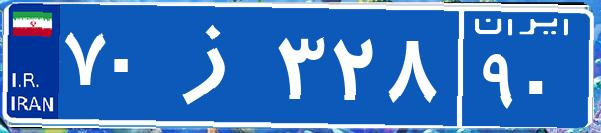0: (110, 28, 158, 105), (525, 38, 570, 115)
2: (330, 28, 385, 110)
3: (273, 28, 330, 110)
7: (57, 26, 110, 107)
8: (385, 28, 445, 110)
9: (475, 38, 525, 113)
ز: (158, 15, 273, 115)
